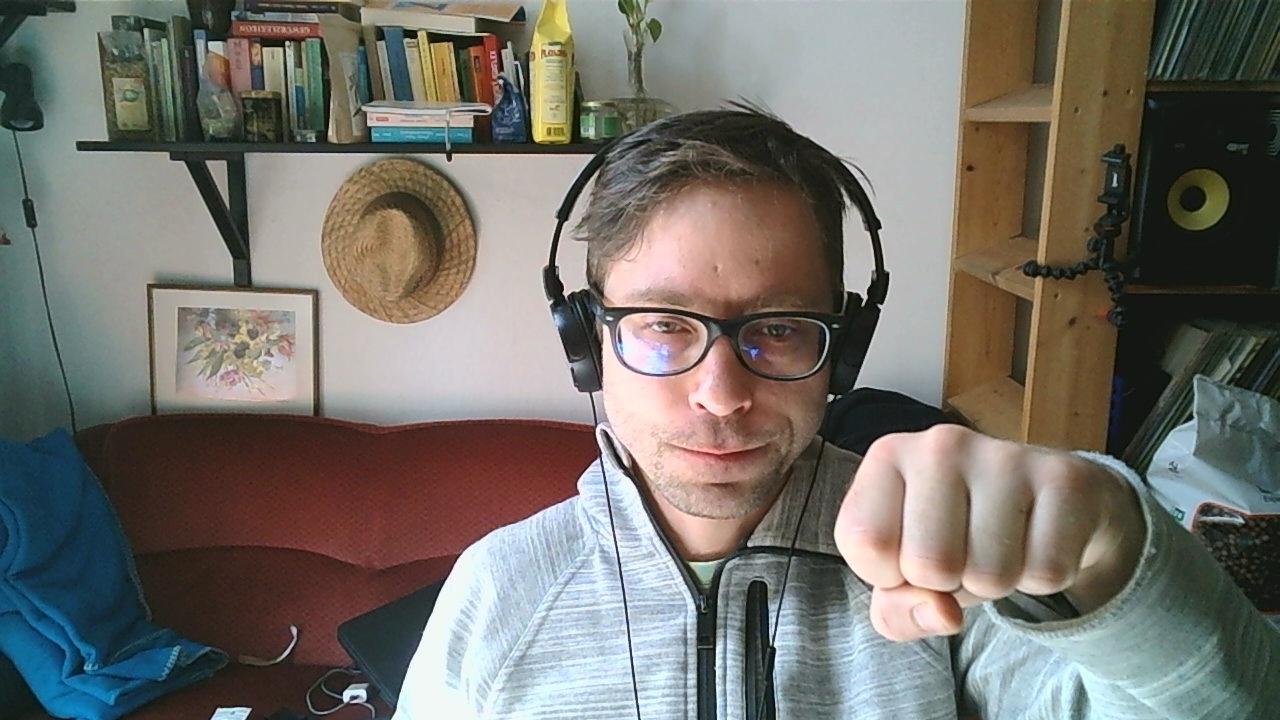yes: (831, 416, 1125, 642)
